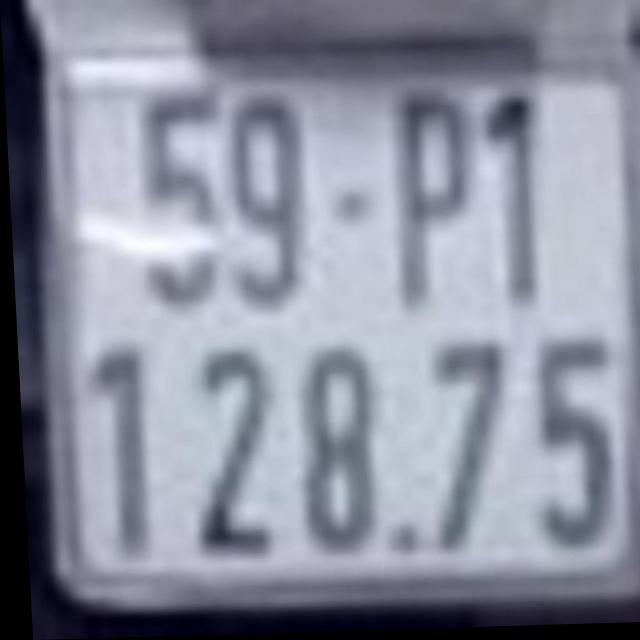1: (83, 343, 146, 557), (476, 96, 537, 316)
2: (184, 350, 273, 559)
5: (528, 339, 616, 556), (134, 90, 221, 297)
7: (422, 343, 504, 555)
8: (295, 342, 371, 556)
9: (222, 96, 310, 310)
P: (391, 86, 470, 319)
